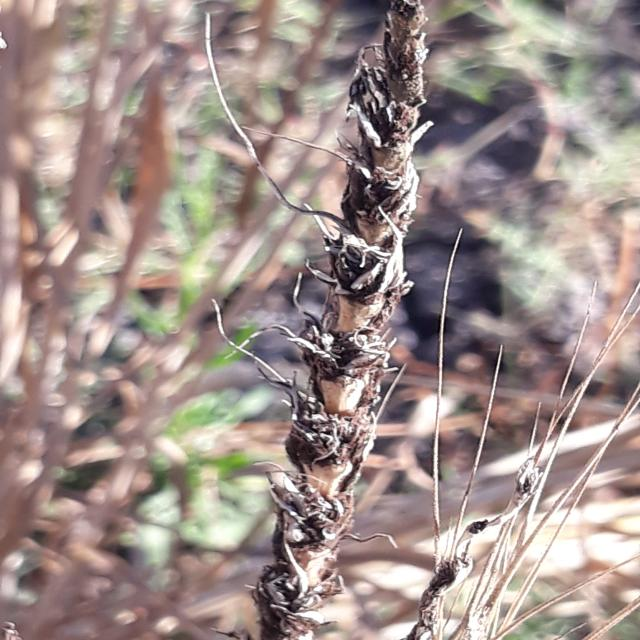loose_charred: (223, 0, 453, 640), (388, 282, 640, 640)
